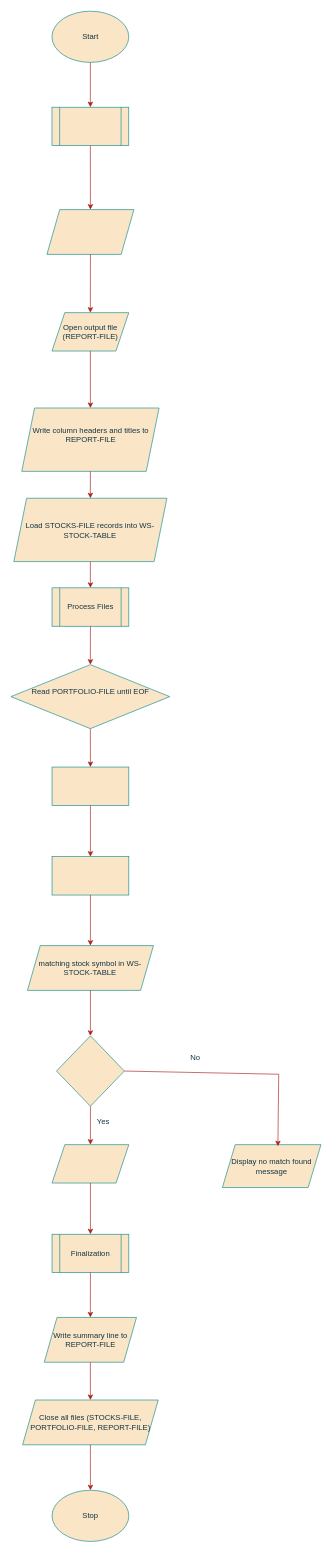
This 333x1553 diagram has some shape labels left out. The centre of each missing label's shape, as x and y in pixels:
Find matching stock symbol: point (90, 1070)
Initialization: point (90, 126)
Open input files (STOCKS-FILE, PORTFOLIO-FILE): point (90, 231)
Process Record: point (90, 875)
process the portfolio record: point (90, 785)
Write report record: point (90, 1163)
